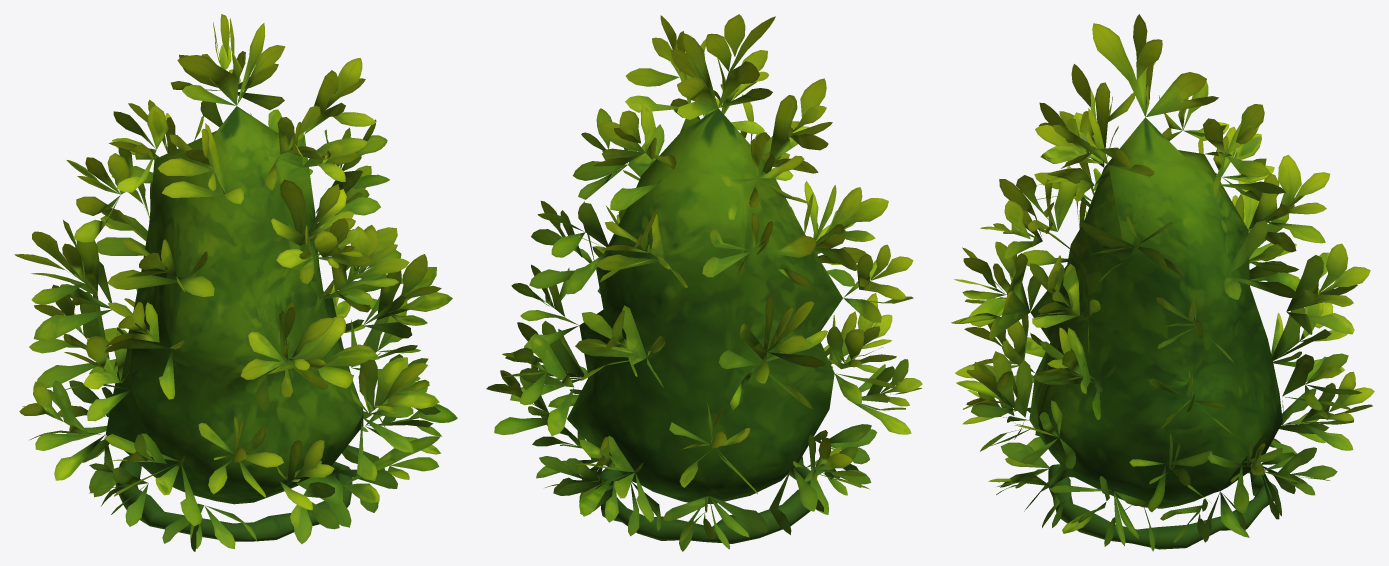
The model's file is bush.glb.
3 renders of one model, left to right at view 1: azimuth 30°, elevation 25°; view 2: azimuth 150°, elevation 25°; view 3: azimuth 270°, elevation 25°, orthographic. The views are drawn at different scales.
Visible parts, largest first — view 1: tripo_node_80da4cf4-631c-41bd-ac64-85af2a725ffc; view 2: tripo_node_80da4cf4-631c-41bd-ac64-85af2a725ffc; view 3: tripo_node_80da4cf4-631c-41bd-ac64-85af2a725ffc.
Boxes of the visible parts, bbox=[...] form: tripo_node_80da4cf4-631c-41bd-ac64-85af2a725ffc: bbox=[14, 14, 457, 551]; tripo_node_80da4cf4-631c-41bd-ac64-85af2a725ffc: bbox=[486, 14, 922, 551]; tripo_node_80da4cf4-631c-41bd-ac64-85af2a725ffc: bbox=[951, 14, 1374, 551].
Bounding box in the file's own units: 0.7798 × 0.9995 × 0.7983.
Materials: 1 (1 with a texture image).
